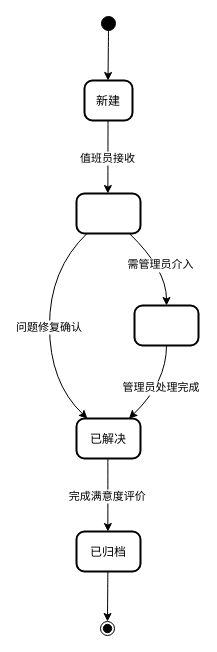
This 217x652 diagram has some shape labels left out. Each missing label, with the centre of its shape:
"升级中" goes at [166,325].
"处理中" goes at [108,213].
